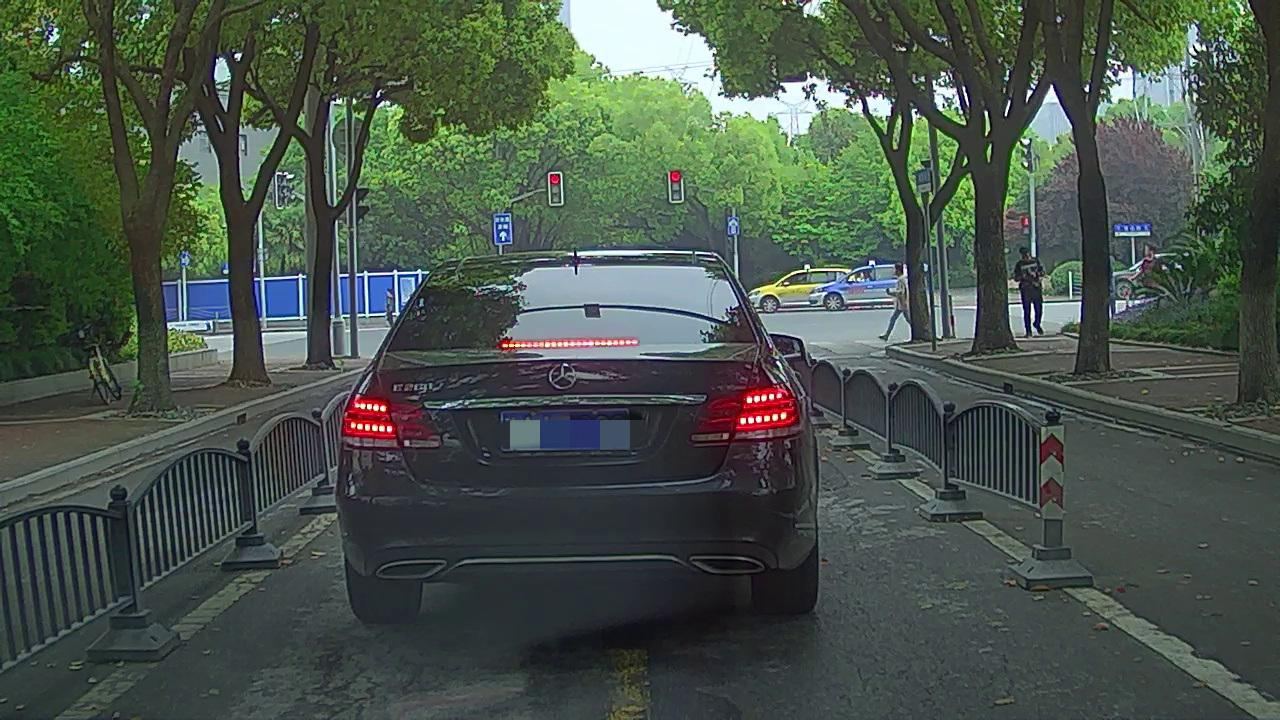traffic_light: (549, 172, 562, 204), (670, 170, 681, 202)
